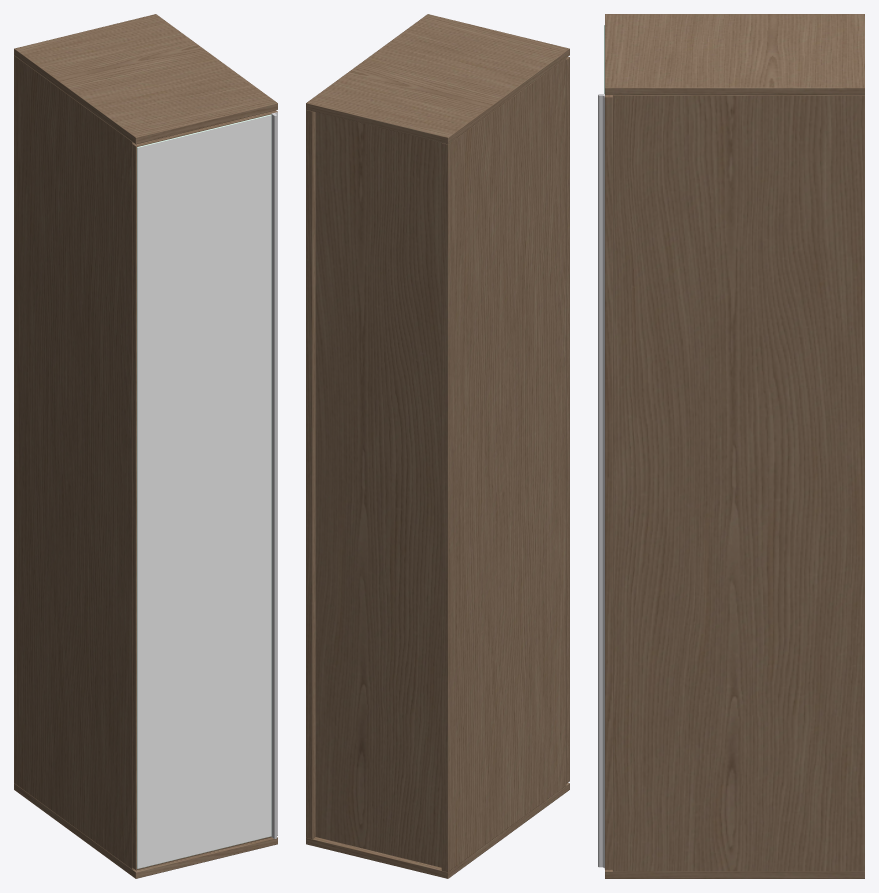
3 renders of one model, left to right at view 1: azimuth 30°, elevation 25°; view 2: azimuth 150°, elevation 25°; view 3: azimuth 270°, elevation 25°, orthographic. The views are drawn at different scales.
Visible parts, largest first — view 1: 7413; view 2: 7413; view 3: 7413.
Part boxes in pixels (x1,y1,x2,y2): 7413: (14,14,277,878); 7413: (306,14,569,878); 7413: (598,14,864,878).
Size of the model in its own units: 0.4 by 2 by 0.61.
1 material, 1 textured.
